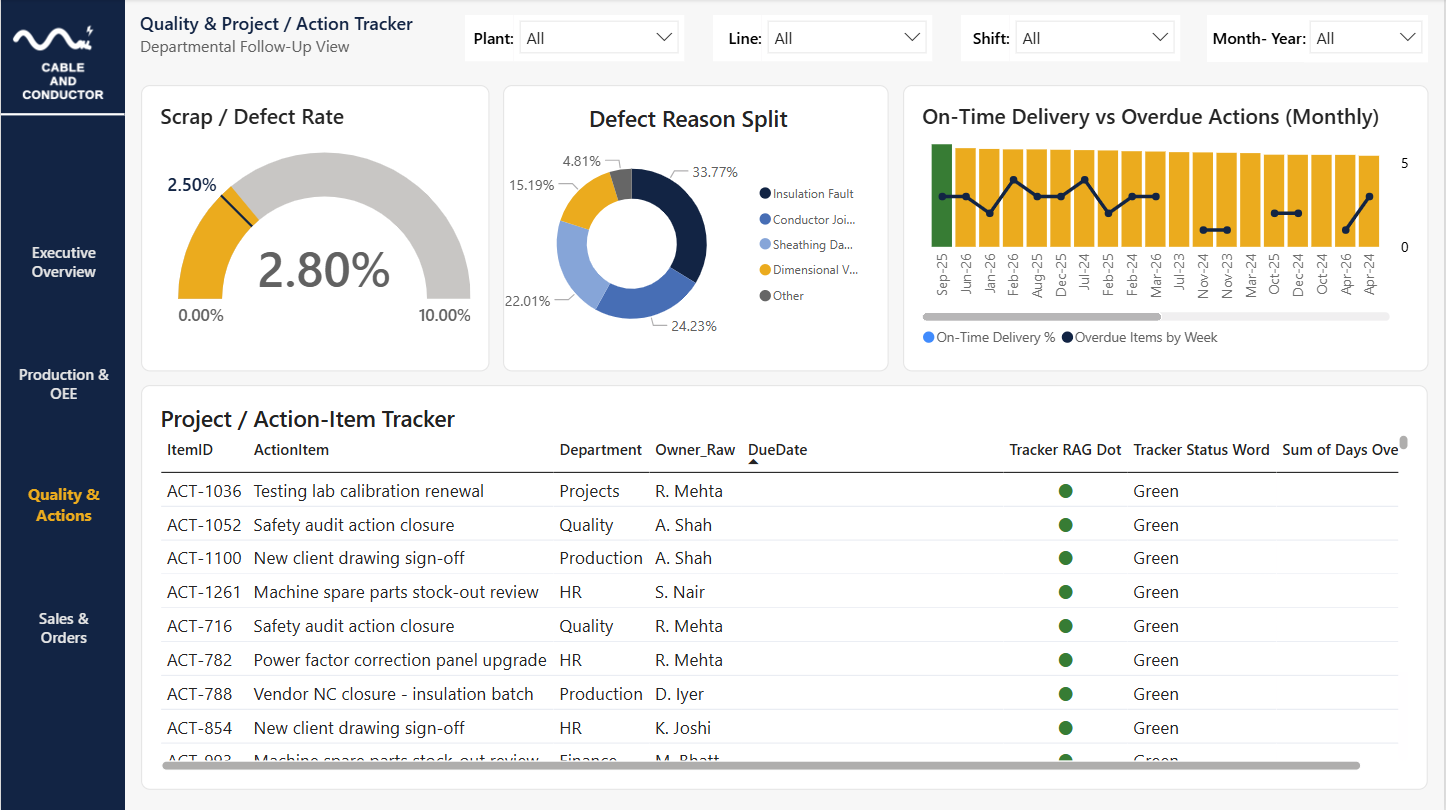

The page's visual inventory and layout, read from the dashboard file:
{"tool":"powerbi","page":{"name":"Quality & Actions","canvas":[1280,720],"ordinal":2},"visuals":[{"type":"image","box":[0,0,109.5,121.6],"z":0,"group":"g5"},{"type":"slicer","fields":{"Values":["Dim_Date.MonthYear"]},"box":[1155.4,14.2,110,41.7],"z":0,"group":"g4"},{"type":"slicer","fields":{"Values":["Dim_Line.PlantID"]},"box":[454.9,14.4,151.2,41.3],"z":0,"group":"g1"},{"type":"slicer","fields":{"Values":["Dim_Line.LineName"]},"box":[674.7,14.4,151.2,41.3],"z":0,"group":"g2"},{"type":"slicer","fields":{"Values":["Dim_Shift.ShiftName"]},"box":[894.7,14.5,151.2,41.3],"z":0,"group":"g3"},{"type":"textbox","box":[15.1,37.2,81.6,93.1],"z":0},{"type":"shape","box":[1069.4,14.2,87.8,41.7],"z":1000,"group":"g4"},{"type":"shape","box":[411.6,14.4,43.3,41.3],"z":1000,"group":"g1"},{"type":"shape","box":[631.4,14.4,43.3,41.3],"z":1000,"group":"g2"},{"type":"shape","box":[851.4,14.5,43.3,41.3],"z":1000,"group":"g3"},{"type":"shape","box":[0,73.3,109.5,57.3],"z":1000,"group":"g5"},{"type":"lineClusteredColumnComboChart","title":"On-Time Delivery vs Overdue Actions (Monthly)","fields":{"Y":["Measures Table.On-Time Delivery %"],"Y2":["Measures Table.Overdue Items by Week"],"Category":["Dim_Date.MonthYear"]},"box":[799.8,76.3,465.5,254.5],"z":1000},{"type":"shape","box":[0,0,110,720],"z":2000},{"type":"textbox","box":[123.3,10.6,288.2,73.6],"z":3000},{"type":"group","id":"g1","title":"Group 3","box":[411.6,14.4,194.5,41.3],"z":4000},{"type":"group","id":"g2","title":"Group 3","box":[631.4,14.4,194.5,41.3],"z":5000},{"type":"group","id":"g3","title":"Group 3","box":[851.4,14.5,195.1,41.8],"z":6000},{"type":"tableEx","title":"Project / Action-Item Tracker","fields":{"Values":["Fact_Tracker.ItemID","Fact_Tracker.ActionItem","Fact_Tracker.Department","Fact_Tracker.Owner_Raw","Fact_Tracker.DueDate","Measures Table.Tracker RAG Dot","Measures Table.Tracker Status Word","Sum(Fact_Tracker.Days Overdue)"]},"box":[124.1,342.3,1141.2,359.1],"z":7000},{"type":"gauge","title":"Scrap / Defect Rate","fields":{"Y":["Measures Table.Scrap %"]},"box":[124.1,76.3,309.5,254.5],"z":8000},{"type":"donutChart","title":"Defect Reason Split","fields":{"Category":["Fact_Defects_RAW.DefectReason"],"Y":["Sum(Fact_Defects_RAW.ScrapQty_KM)"]},"box":[445.1,76.3,342.3,254.5],"z":9000},{"type":"group","id":"g4","title":"Group 4","box":[1069.4,14.2,196,41.7],"z":10000},{"type":"pageNavigator","box":[3,188.6,106.7,414],"z":11000},{"type":"group","id":"g5","title":"Group 5","box":[0,0,109.5,130.6],"z":11001}]}

Visuals, with their boxes on the page's 1280x720 design canvas (x1, y1, x2, y2). These are canvas units, not pixel positions in the 1446x810 screenshot, which may show the page scaled, cropped or inside an application window:
image: {"left": 0, "top": 0, "right": 110, "bottom": 122}
slicer - Dim_Date.MonthYear: {"left": 1155, "top": 14, "right": 1265, "bottom": 56}
slicer - Dim_Line.PlantID: {"left": 455, "top": 14, "right": 606, "bottom": 56}
slicer - Dim_Line.LineName: {"left": 675, "top": 14, "right": 826, "bottom": 56}
slicer - Dim_Shift.ShiftName: {"left": 895, "top": 14, "right": 1046, "bottom": 56}
textbox: {"left": 15, "top": 37, "right": 97, "bottom": 130}
shape: {"left": 1069, "top": 14, "right": 1157, "bottom": 56}
shape: {"left": 412, "top": 14, "right": 455, "bottom": 56}
shape: {"left": 631, "top": 14, "right": 675, "bottom": 56}
shape: {"left": 851, "top": 14, "right": 895, "bottom": 56}
shape: {"left": 0, "top": 73, "right": 110, "bottom": 131}
"On-Time Delivery vs Overdue Actions (Monthly)" lineClusteredColumnComboChart: {"left": 800, "top": 76, "right": 1265, "bottom": 331}
shape: {"left": 0, "top": 0, "right": 110, "bottom": 720}
textbox: {"left": 123, "top": 11, "right": 412, "bottom": 84}
"Group 3" group: {"left": 412, "top": 14, "right": 606, "bottom": 56}
"Group 3" group: {"left": 631, "top": 14, "right": 826, "bottom": 56}
"Group 3" group: {"left": 851, "top": 14, "right": 1046, "bottom": 56}
"Project / Action-Item Tracker" tableEx: {"left": 124, "top": 342, "right": 1265, "bottom": 701}
"Scrap / Defect Rate" gauge: {"left": 124, "top": 76, "right": 434, "bottom": 331}
"Defect Reason Split" donutChart: {"left": 445, "top": 76, "right": 787, "bottom": 331}
"Group 4" group: {"left": 1069, "top": 14, "right": 1265, "bottom": 56}
pageNavigator: {"left": 3, "top": 189, "right": 110, "bottom": 603}
"Group 5" group: {"left": 0, "top": 0, "right": 110, "bottom": 131}
